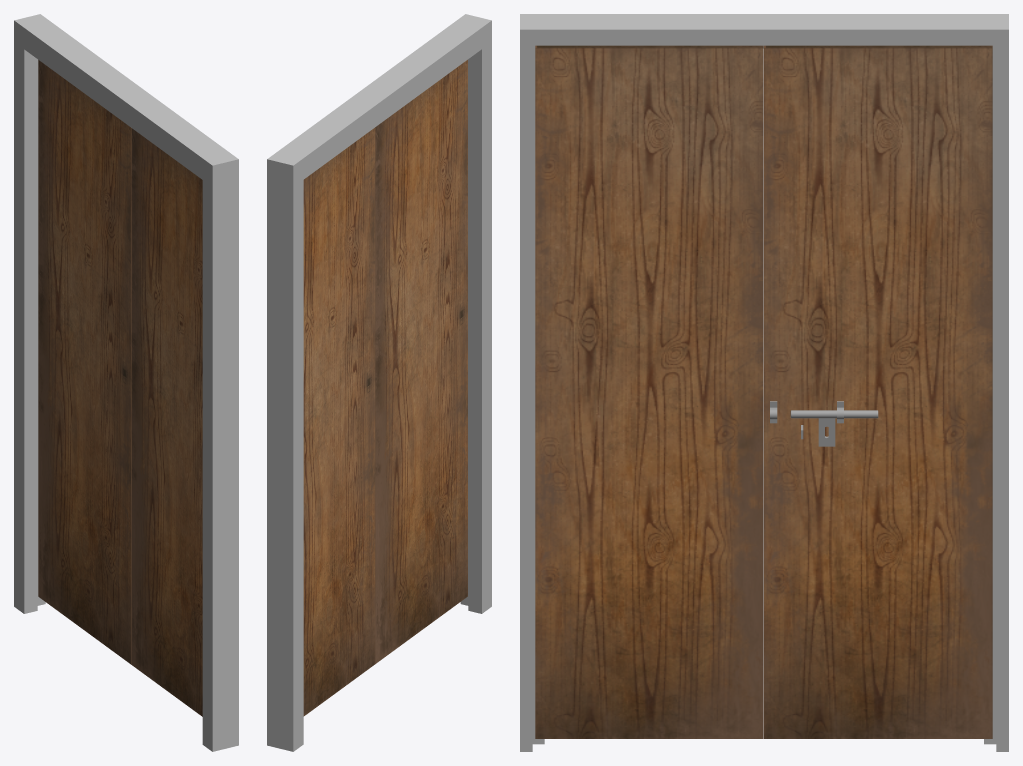
The model's file is Door_new.fbx.
3 views of the same model, side by side, from view 1: azimuth 30°, elevation 25°; view 2: azimuth 150°, elevation 25°; view 3: azimuth 270°, elevation 25° (orthographic). The views are drawn at different scales.
Visible parts, largest first — view 1: polySurface80; view 2: polySurface80; view 3: polySurface80.
Boxes of the visible parts, x1,y1,x2,y2 form: polySurface80: (14, 14, 238, 751); polySurface80: (267, 14, 491, 751); polySurface80: (520, 14, 1008, 751).
Bounding box in the file's own units: 0.7218 × 10.58 × 6.49.
